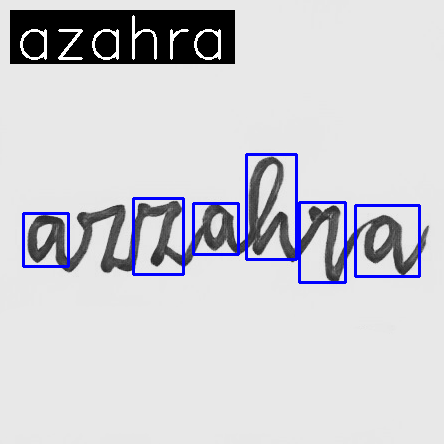a: (25, 212, 68, 271), (361, 212, 405, 269), (200, 201, 238, 255)
h: (244, 154, 295, 264)
r: (301, 201, 345, 286)
z: (74, 202, 128, 275), (134, 198, 187, 269)
